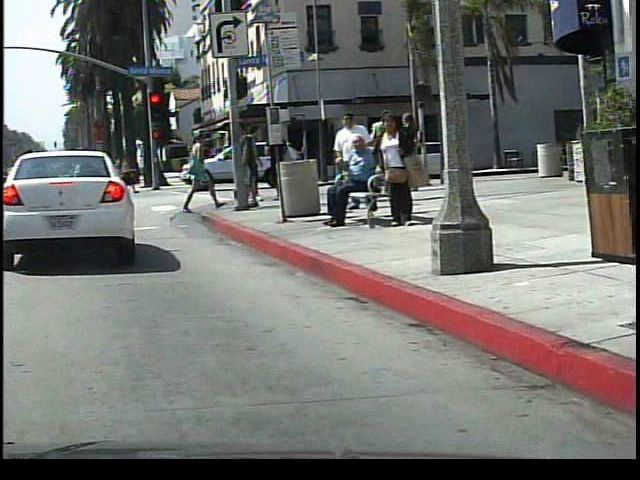person: (316, 137, 381, 230), (371, 113, 413, 234), (179, 128, 225, 219)
